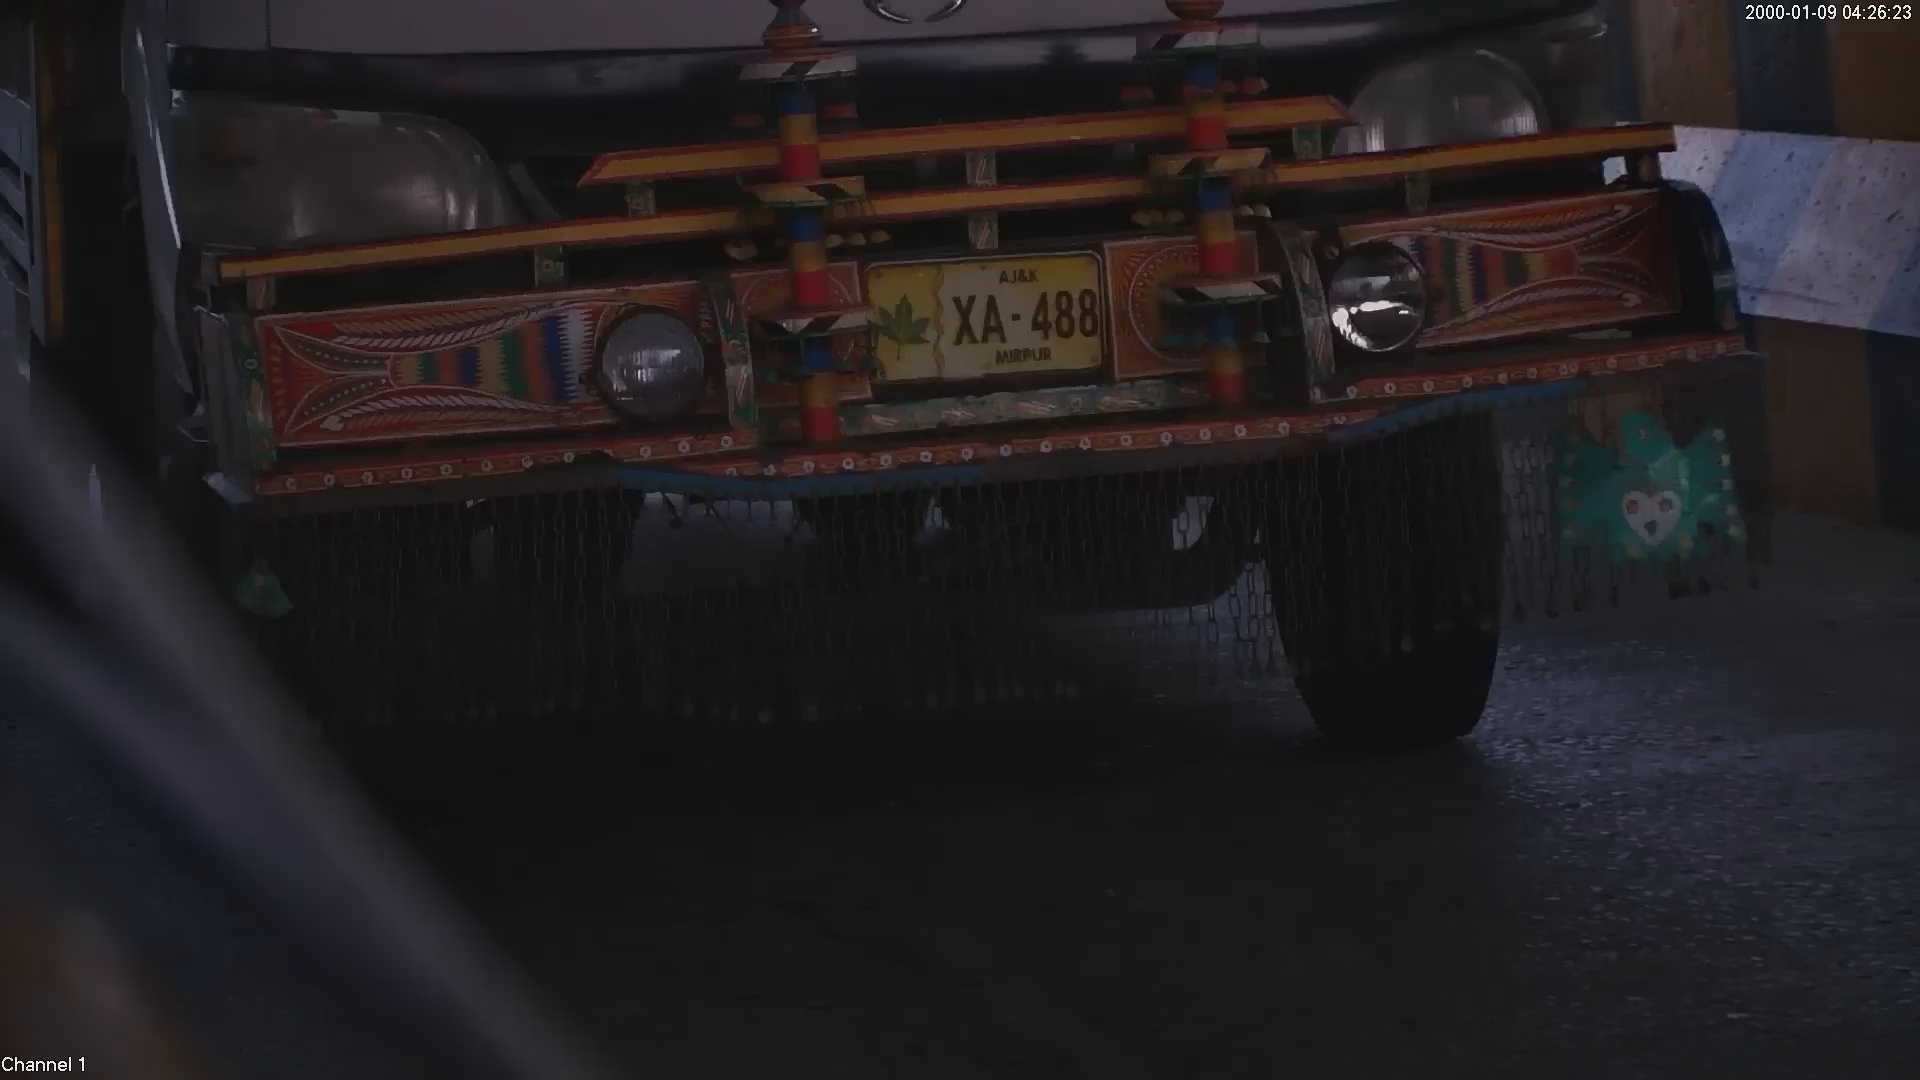Number_Plate: (854, 238, 1119, 396)
